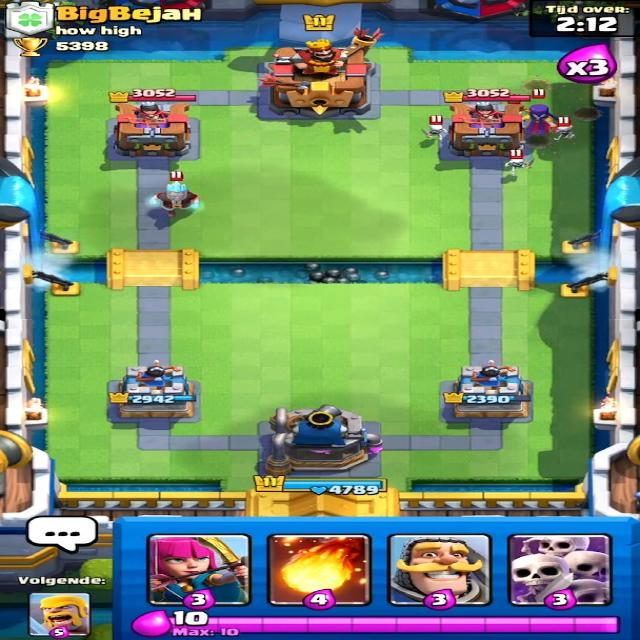Enemy_Ice_Wizard_Troop: (145, 178, 209, 217)
Enemy_Skeleton_Troop: (505, 153, 539, 174), (419, 123, 450, 138), (554, 124, 578, 140)
Enemy_Witch_Troop: (507, 106, 569, 146)
Fireball_Card: (267, 528, 364, 603)
